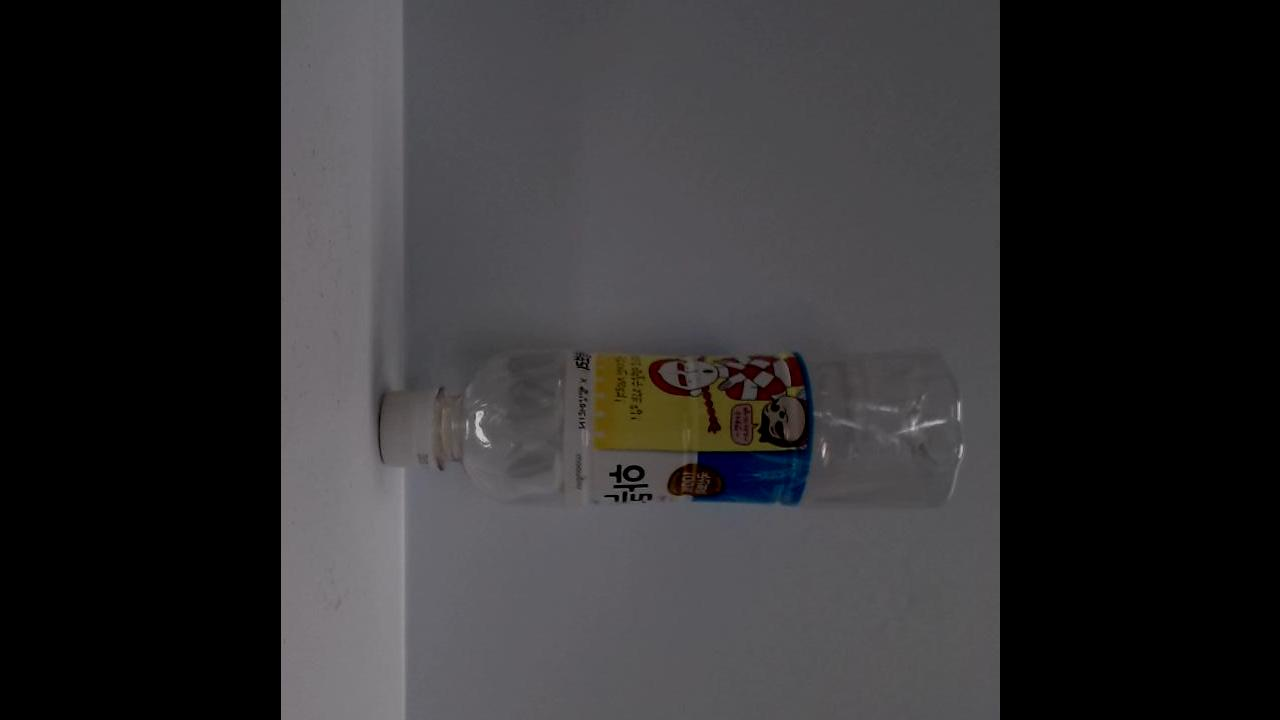bottle: (362, 340, 979, 520)
